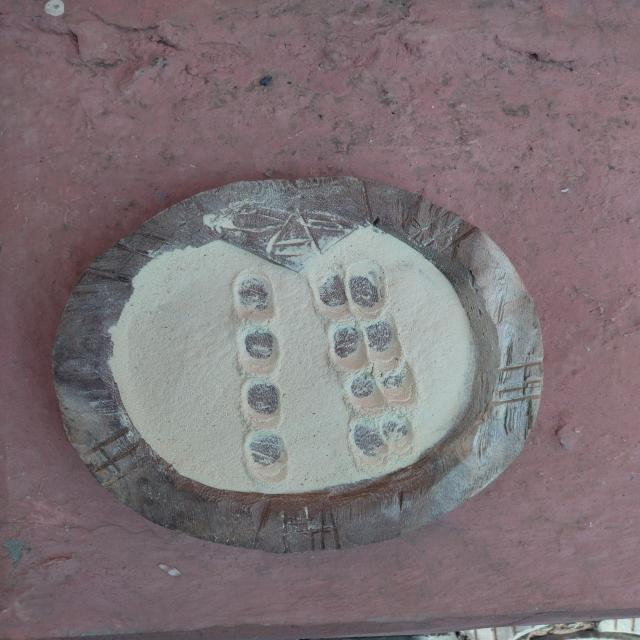double: (310, 259, 390, 325), (328, 321, 411, 373), (346, 412, 418, 470), (341, 364, 418, 418)
single: (227, 264, 283, 326), (240, 428, 296, 487), (231, 322, 285, 382), (237, 376, 290, 434)
